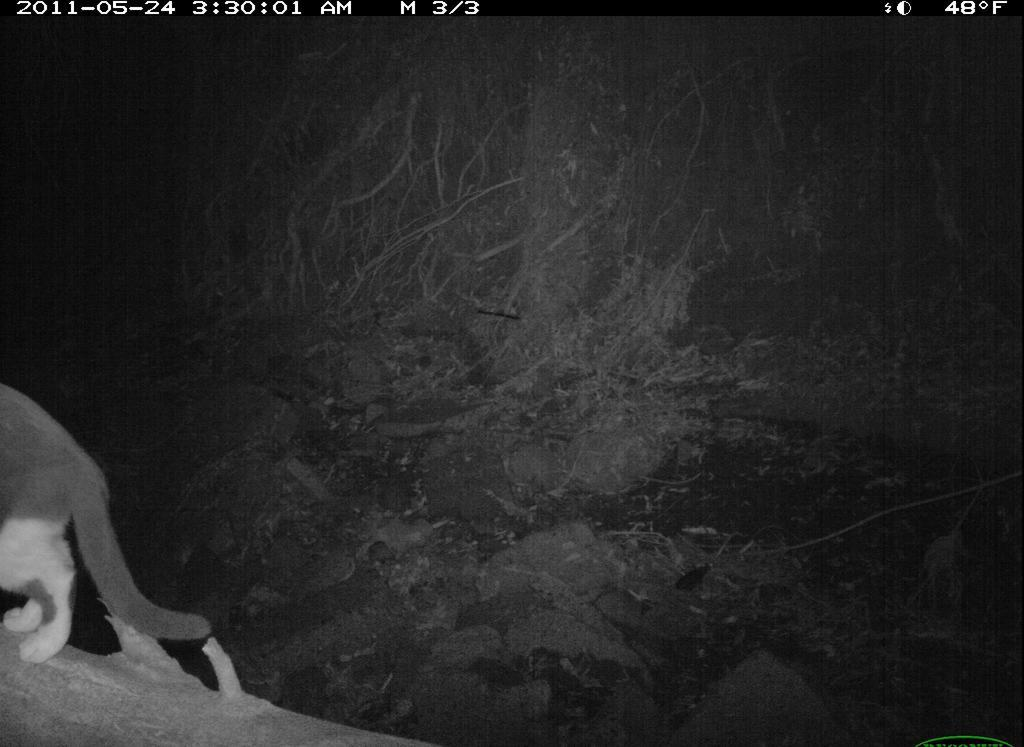cat: (1, 366, 218, 674)
